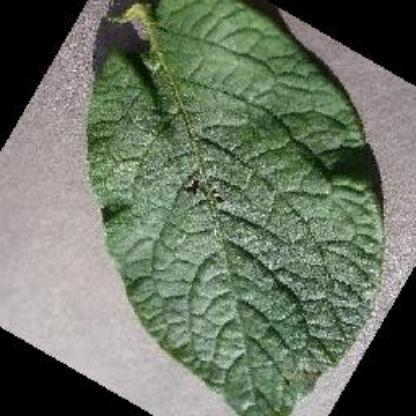Healthy-plant: (87, 0, 386, 414)
